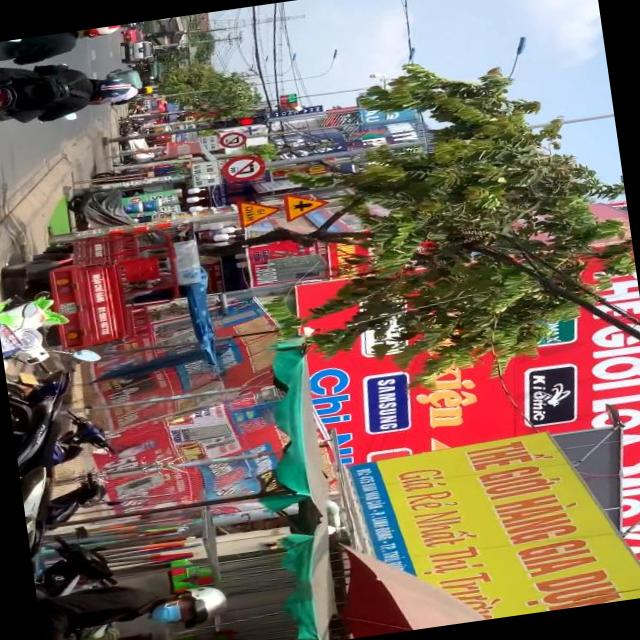W-207a: (284, 189, 328, 223)
W-245a: (235, 194, 288, 230)
